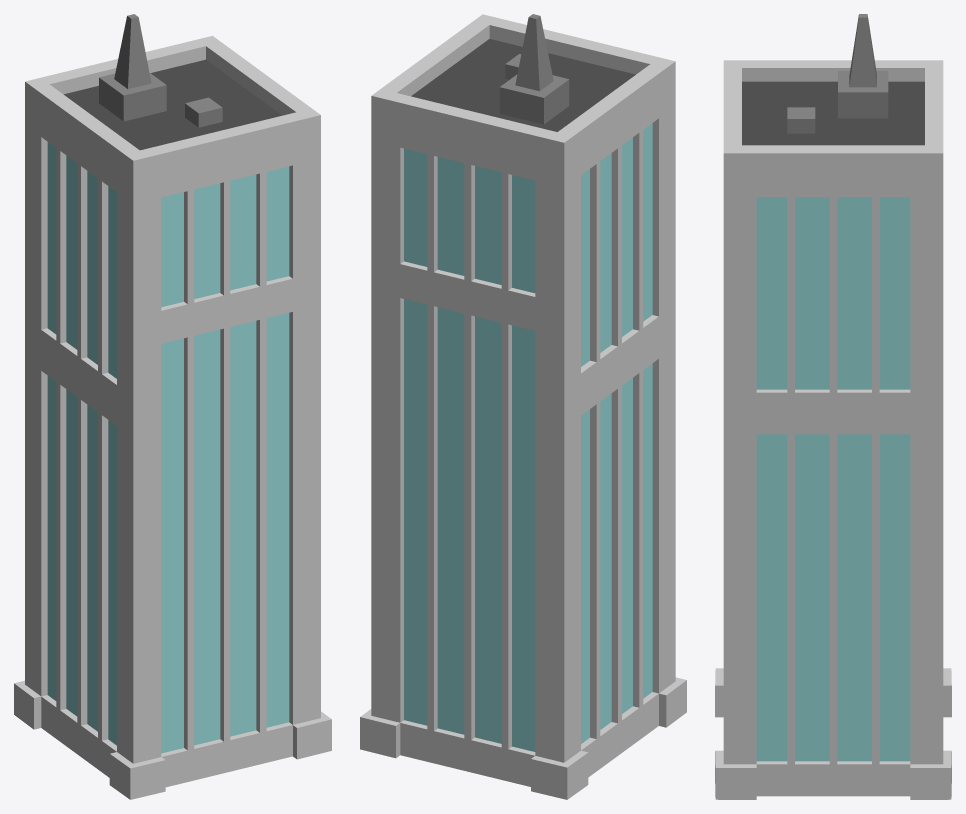
The model's file is SkyScraper 3.fbx.
3 renders of one model, left to right at view 1: azimuth 30°, elevation 25°; view 2: azimuth 150°, elevation 25°; view 3: azimuth 270°, elevation 25°, orthographic. The views are drawn at different scales.
Visible parts, largest first — view 1: pCube38; view 2: pCube38; view 3: pCube38.
Boxes of the visible parts, bbox=[...] form: pCube38: bbox=[14, 14, 331, 799]; pCube38: bbox=[360, 14, 686, 799]; pCube38: bbox=[715, 14, 951, 799].
Bounding box in the file's own units: 13.68 × 46 × 13.68.
